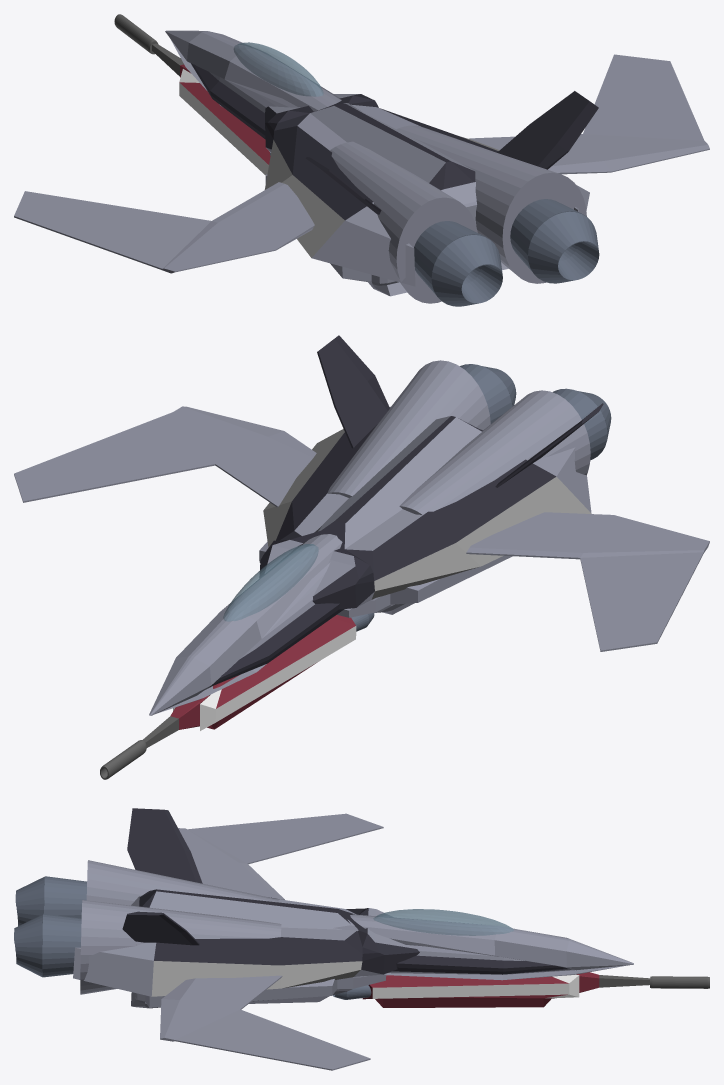
The model's file is 敵戦闘機.fbx.
3 views of the same model, one above another, from view 1: azimuth 30°, elevation 25°; view 2: azimuth 150°, elevation 25°; view 3: azimuth 270°, elevation 25° (orthographic). The views are drawn at different scales.
Visible parts, largest first — view 1: Cube, 立方体.001, 立方体.002, 円柱, 円柱.004, 円柱.002, 円柱.001, 円柱.003, 円柱.009, 立方体.004, 球, Cube.001 (+1 smaller); view 2: Cube, 立方体.001, 立方体.002, 円柱, 円柱.002, 円柱.004, 円柱.009, 立方体.004, 球, Cube.001, 円柱.001, 円柱.003 (+1 smaller); view 3: Cube, 円柱, 立方体.002, 円柱.009, 立方体.001, 円柱.004, 立方体.003, 円柱.002, 円柱.003, 球, 円柱.001, Cube.001 (+1 smaller).
Part boxes in pixels (box(x1,y1,x2,y2)): Cube: box(264, 94, 589, 286); 立方体.001: box(14, 182, 314, 273); 立方体.002: box(469, 54, 709, 174); 円柱: box(165, 30, 361, 139); 円柱.004: box(396, 125, 586, 283); 円柱.002: box(330, 141, 477, 303); 円柱.001: box(414, 221, 502, 306); 円柱.003: box(510, 199, 599, 283); 円柱.009: box(114, 14, 270, 174); 立方体.004: box(497, 91, 598, 169); 球: box(233, 42, 323, 96); Cube.001: box(265, 152, 508, 296); Cube: box(260, 406, 591, 609); 立方体.001: box(466, 512, 709, 651); 立方体.002: box(14, 406, 316, 507); 円柱: box(149, 526, 344, 715); 円柱.002: box(399, 390, 590, 514); 円柱.004: box(327, 360, 490, 497); 円柱.009: box(100, 613, 374, 779); 立方体.004: box(317, 335, 389, 448); 球: box(223, 544, 318, 621); Cube.001: box(259, 541, 512, 617); 円柱.001: box(552, 388, 611, 460); 円柱.003: box(460, 364, 516, 423); Cube: box(73, 889, 419, 996); 円柱: box(333, 914, 633, 980); 立方体.002: box(160, 975, 370, 1070); 円柱.009: box(333, 972, 709, 1007); 立方体.001: box(178, 813, 383, 899); 円柱.004: box(80, 900, 281, 994); 立方体.003: box(127, 808, 202, 883); 円柱.002: box(86, 860, 278, 905); 円柱.003: box(14, 913, 81, 977); 球: box(373, 909, 513, 935); 円柱.001: box(15, 876, 86, 926); Cube.001: box(131, 973, 386, 1008).
Size of the model in its own units: 1523 by 394 by 1732.
